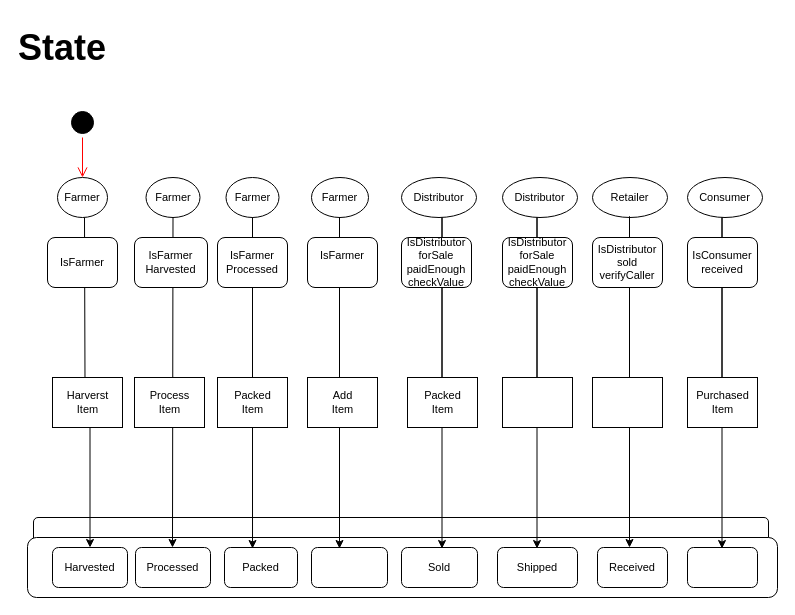
This 795x615 diagram has some shape labels left out. The shapes that lost their labels are listed below. From the top down, each one's centre as x and y in pixels, then its label:
At (x=537, y=402): "Shipped Item".
At (x=627, y=402): "Received Item".
At (x=400, y=532): "ItemState".
At (x=349, y=567): "ForSale".
At (x=722, y=567): "Purchased".
